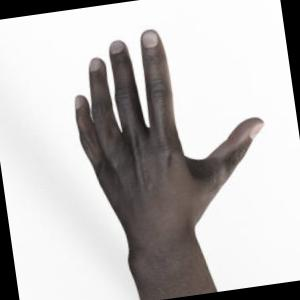paper: (75, 30, 263, 300)
